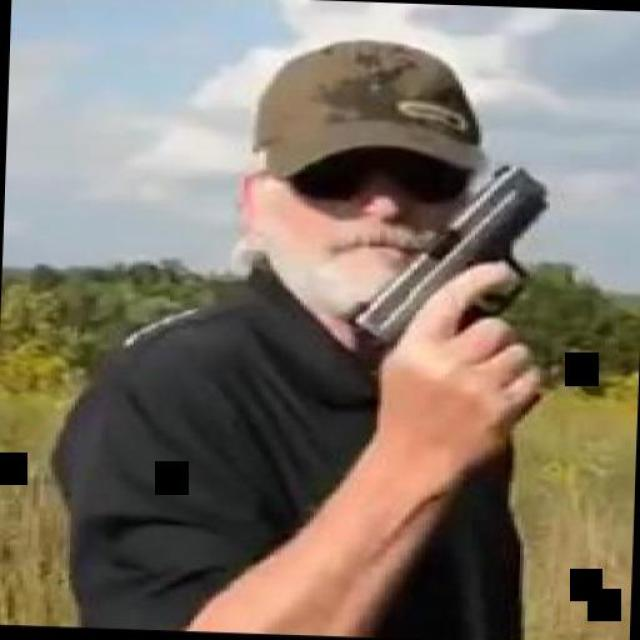gun: (349, 158, 569, 408)
